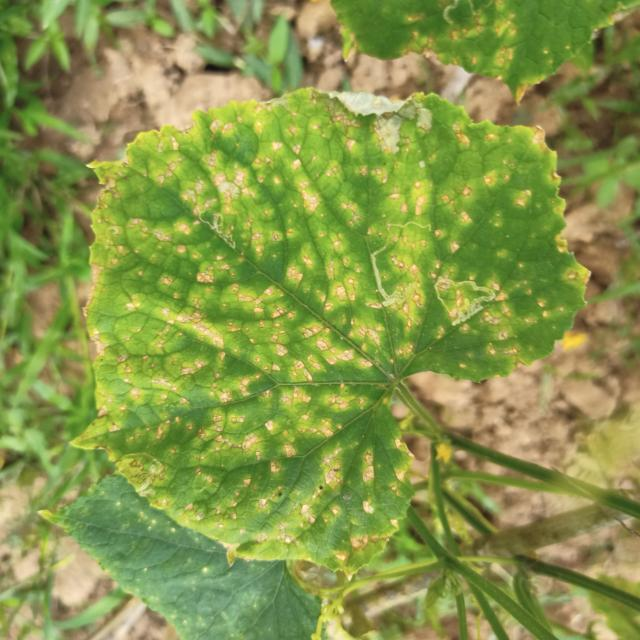disease_cucumber: (90, 99, 571, 567)
